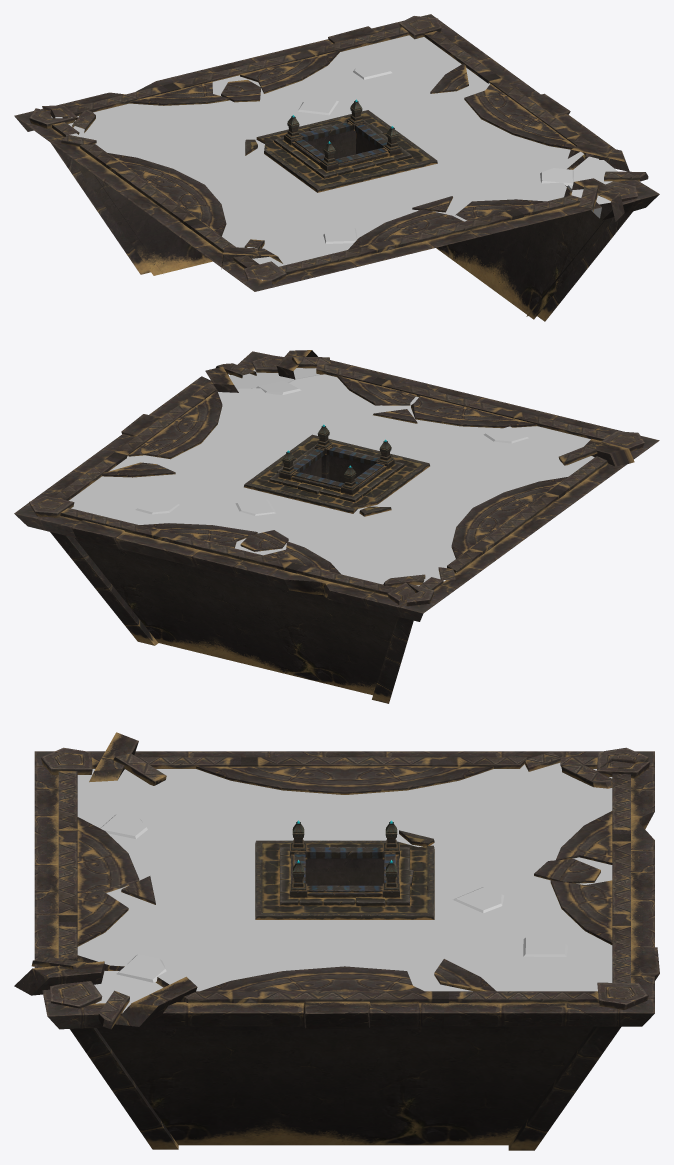
Rendered from building_city_shamodapingtai.FBX.
3 renders of one model, top to bottom at view 1: azimuth 30°, elevation 25°; view 2: azimuth 150°, elevation 25°; view 3: azimuth 270°, elevation 25°, orthographic. The views are drawn at different scales.
Visible parts, largest first — view 1: building_city_shamodapingtai; view 2: building_city_shamodapingtai; view 3: building_city_shamodapingtai.
Part boxes in pixels (x1,y1,x2,y2): building_city_shamodapingtai: [14, 14, 659, 321]; building_city_shamodapingtai: [14, 350, 659, 703]; building_city_shamodapingtai: [14, 732, 659, 1150].
Size of the model in its own units: 33.75 by 34.3 by 13.45.
